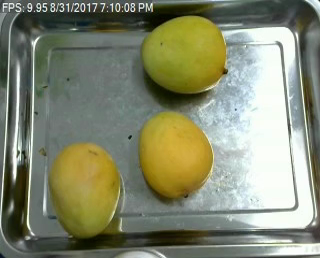Mango: (131, 105, 221, 204), (46, 142, 126, 240), (137, 11, 226, 97)
